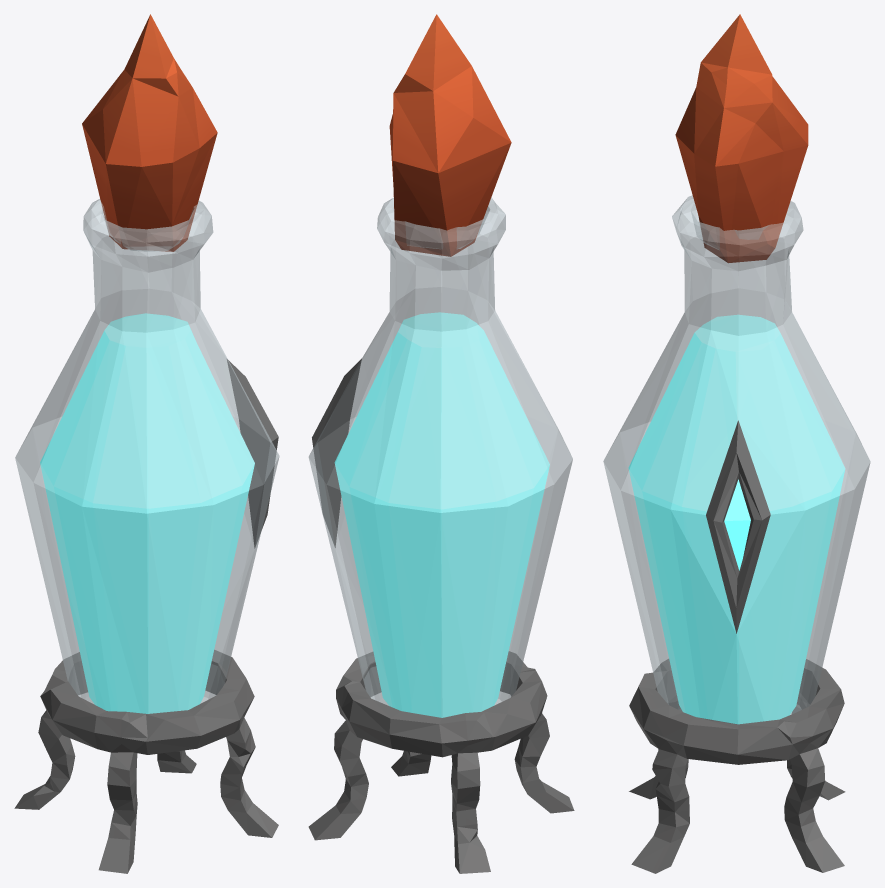
Rendered from AWS_Fire_Potion.fbx.
The picture shows the model from 3 angles, left to right: view 1: azimuth 30°, elevation 25°; view 2: azimuth 150°, elevation 25°; view 3: azimuth 270°, elevation 25°; orthographic projection.
Parts seen in each view (by area): view 1: AWS_Fire_Potion; view 2: AWS_Fire_Potion; view 3: AWS_Fire_Potion.
Boxes of the visible parts, bbox=[...] form: AWS_Fire_Potion: bbox=[14, 14, 279, 873]; AWS_Fire_Potion: bbox=[308, 14, 574, 873]; AWS_Fire_Potion: bbox=[603, 14, 870, 873].
Bounding box in the file's own units: 6.56 × 21.64 × 6.42.
